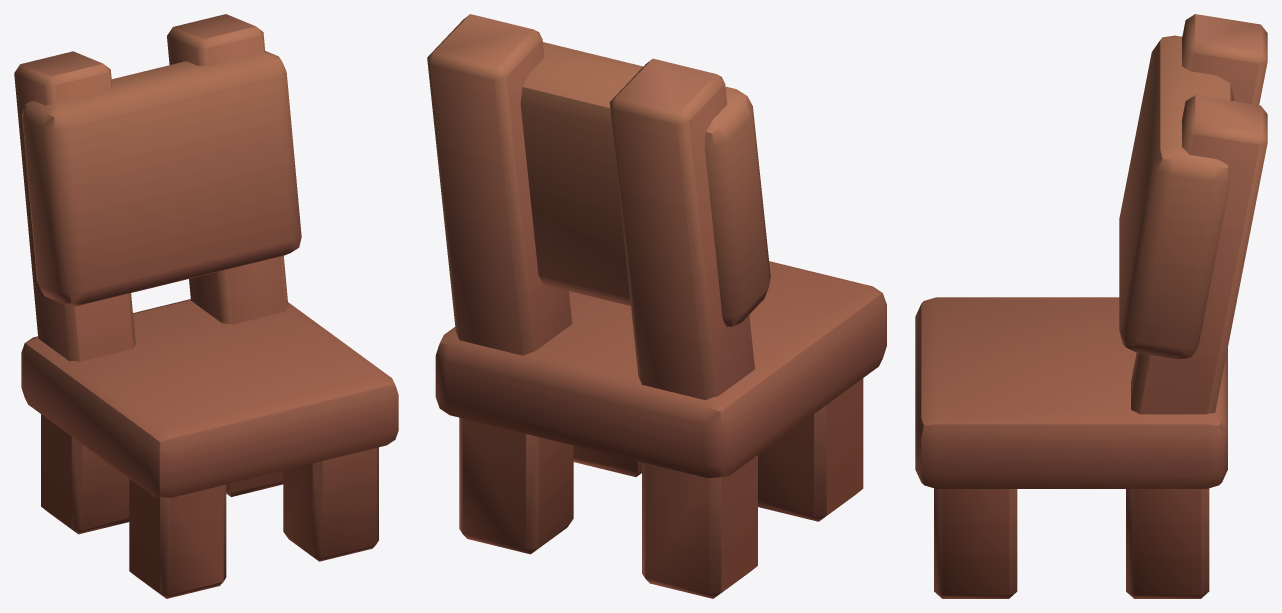
File: chair_B_wood.glb
The picture shows the model from 3 angles, left to right: view 1: azimuth 30°, elevation 25°; view 2: azimuth 150°, elevation 25°; view 3: azimuth 270°, elevation 25°; orthographic projection. The views are drawn at different scales.
Visible parts, largest first — view 1: chair_B_wood; view 2: chair_B_wood; view 3: chair_B_wood.
Boxes of the visible parts, x1,y1,x2,y2 form: chair_B_wood: (14, 14, 398, 598); chair_B_wood: (427, 14, 886, 598); chair_B_wood: (915, 14, 1267, 598).
Bounding box in the file's own units: 0.75 × 1.26 × 0.8451.
Materials: 1 (1 with a texture image).
